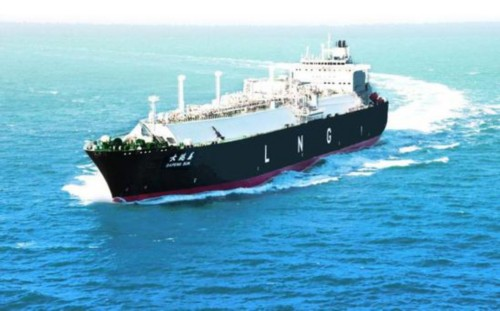Cargoship: (79, 34, 389, 203)
